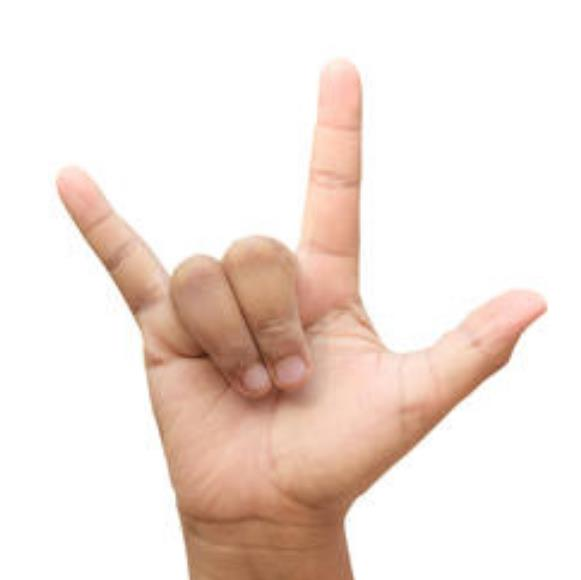back: (49, 57, 551, 530)
